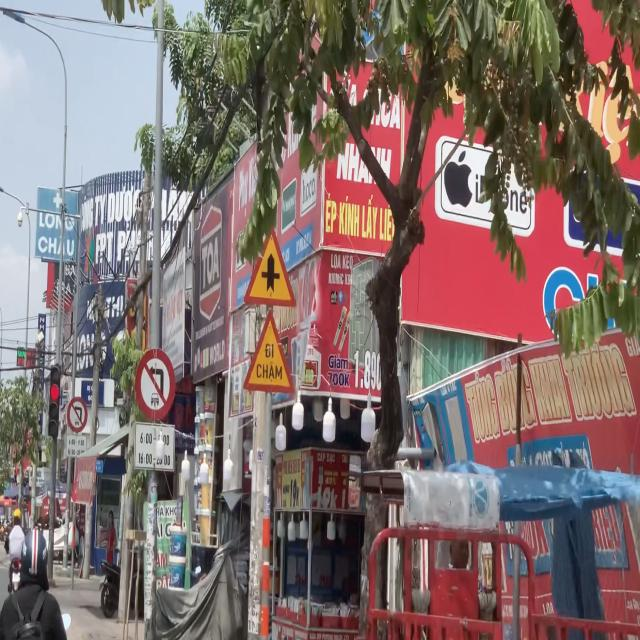Cam re trai: (135, 348, 176, 421), (67, 396, 88, 433)
Giao voi duong khong uu tien: (243, 220, 296, 308)
Nguy hiem: (242, 309, 295, 395)
